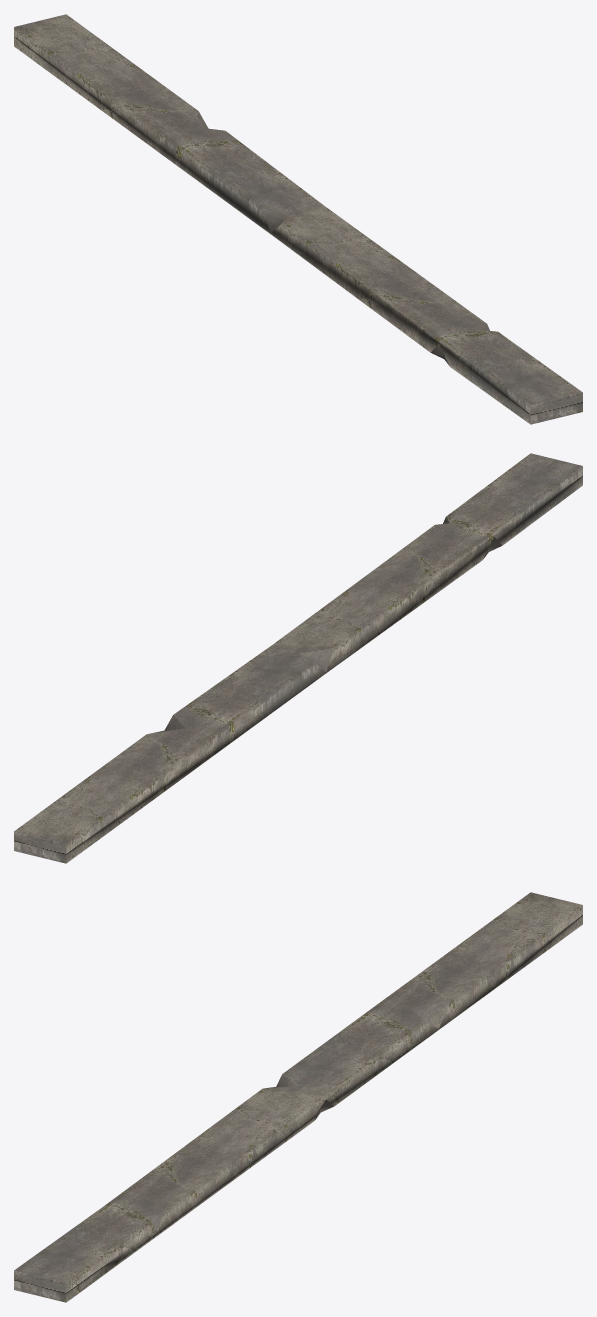
Rendered from kerb_125x600.glb.
3 views of the same model, one above another, from view 1: azimuth 30°, elevation 25°; view 2: azimuth 150°, elevation 25°; view 3: azimuth 330°, elevation 25° (orthographic).
Parts seen in each view (by area): view 1: kerb_125x600; view 2: kerb_125x600; view 3: kerb_125x600.
Part boxes in pixels (left/top/right/bottom): kerb_125x600: left=14, top=14, right=582, bottom=424; kerb_125x600: left=14, top=453, right=582, bottom=863; kerb_125x600: left=14, top=892, right=582, bottom=1302.
Size of the model in its own units: 0.3761 by 0.1373 by 6.09.
Materials: 1 (1 with a texture image).
